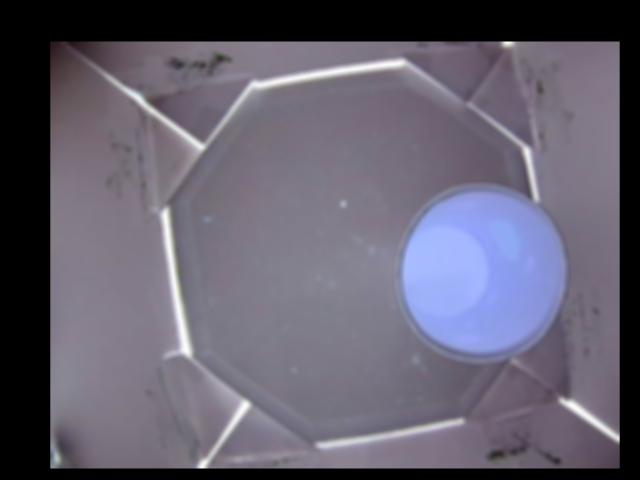Cup: (395, 183, 568, 359)
